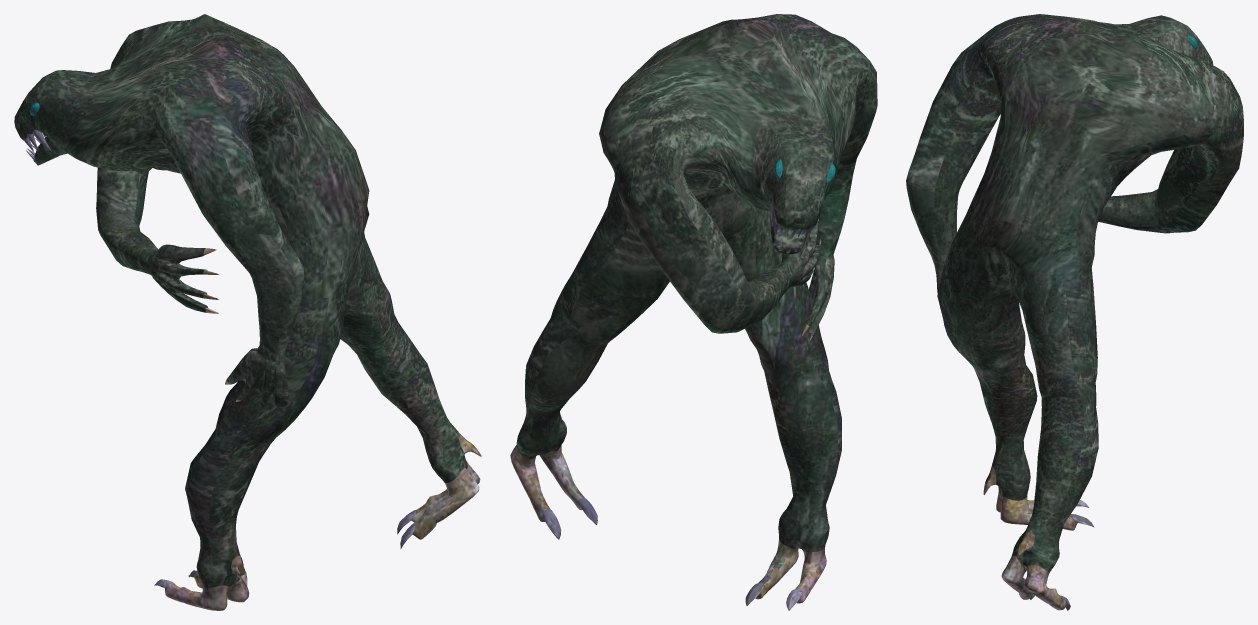
The model's file is Aranar.0011.obj.
The picture shows the model from 3 angles, left to right: view 1: azimuth 30°, elevation 25°; view 2: azimuth 150°, elevation 25°; view 3: azimuth 270°, elevation 25°; orthographic projection. The views are drawn at different scales.
Parts seen in each view (by area): view 1: polySurface28; view 2: polySurface28; view 3: polySurface28.
Boxes of the visible parts, x1=… form: polySurface28: x1=14, y1=14, x2=481, y2=610; polySurface28: x1=510, y1=14, x2=877, y2=610; polySurface28: x1=906, y1=14, x2=1243, y2=610.
Bounding box in the file's own units: 1.49 × 2.06 × 1.23.
Materials: 4 (4 with a texture image).
